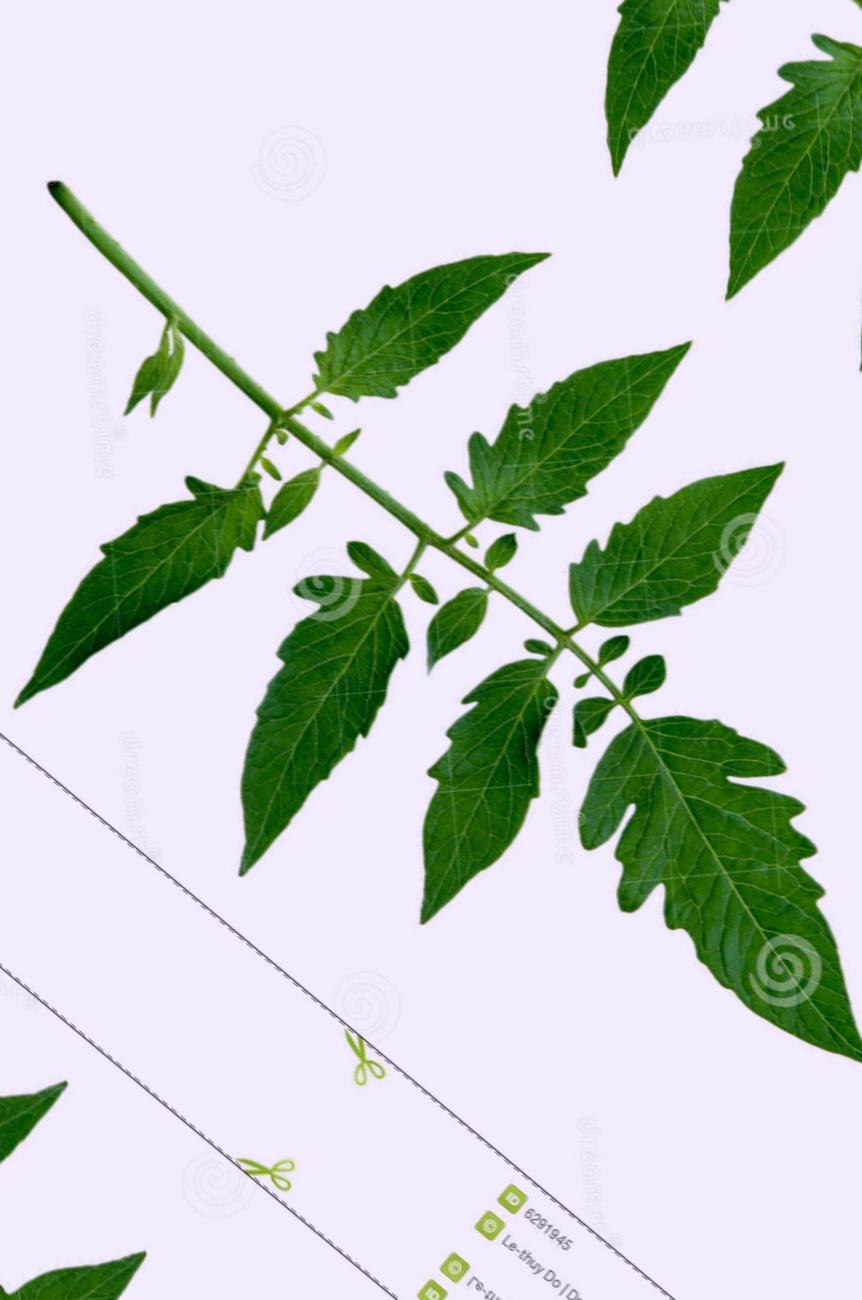Tomato leaf: (510, 650, 862, 1109), (112, 535, 469, 910), (392, 254, 728, 613), (0, 398, 314, 780), (298, 604, 633, 960), (249, 150, 583, 500), (542, 392, 829, 692)
